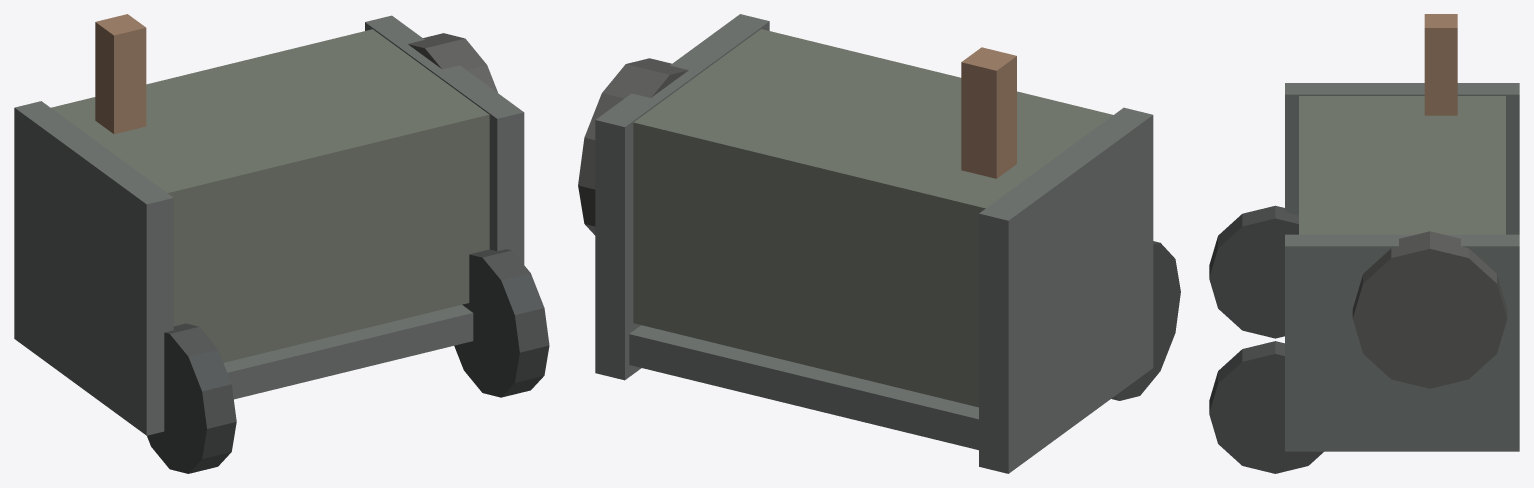
File: feldgenerator.glb
The picture shows the model from 3 angles, left to right: view 1: azimuth 30°, elevation 25°; view 2: azimuth 150°, elevation 25°; view 3: azimuth 270°, elevation 25°; orthographic projection. The views are drawn at different scales.
Parts seen in each view (by area): view 1: feldgenerator_n1, feldgenerator_n2, feldgenerator_n8, feldgenerator_n5, feldgenerator_n7, feldgenerator_n3, feldgenerator_n9, feldgenerator_n6; view 2: feldgenerator_n1, feldgenerator_n2, feldgenerator_n4, feldgenerator_n3, feldgenerator_n9, feldgenerator_n6, feldgenerator_n7; view 3: feldgenerator_n3, feldgenerator_n1, feldgenerator_n6, feldgenerator_n8, feldgenerator_n7, feldgenerator_n2, feldgenerator_n9.
Boxes of the visible parts, left/top/right/bottom form: feldgenerator_n1: left=51, top=29, right=489, bottom=362; feldgenerator_n2: left=14, top=101, right=173, bottom=435; feldgenerator_n8: left=454, top=249, right=549, bottom=397; feldgenerator_n5: left=223, top=305, right=473, bottom=399; feldgenerator_n7: left=147, top=323, right=236, bottom=473; feldgenerator_n3: left=365, top=15, right=524, bottom=264; feldgenerator_n9: left=95, top=14, right=146, bottom=134; feldgenerator_n6: left=408, top=33, right=497, bottom=92; feldgenerator_n1: left=633, top=29, right=1112, bottom=407; feldgenerator_n2: left=979, top=107, right=1153, bottom=473; feldgenerator_n4: left=629, top=325, right=978, bottom=450; feldgenerator_n3: left=595, top=14, right=769, bottom=380; feldgenerator_n9: left=961, top=47, right=1016, bottom=178; feldgenerator_n6: left=578, top=58, right=688, bottom=235; feldgenerator_n7: left=1111, top=241, right=1180, bottom=400; feldgenerator_n3: left=1285, top=234, right=1519, bottom=451; feldgenerator_n1: left=1299, top=96, right=1505, bottom=234; feldgenerator_n6: left=1352, top=231, right=1507, bottom=388; feldgenerator_n8: left=1209, top=341, right=1323, bottom=473; feldgenerator_n7: left=1209, top=205, right=1298, bottom=338; feldgenerator_n2: left=1285, top=83, right=1519, bottom=234; feldgenerator_n9: left=1424, top=14, right=1457, bottom=115.
Size of the model in its own units: 1.49 by 1.29 by 1.12.
